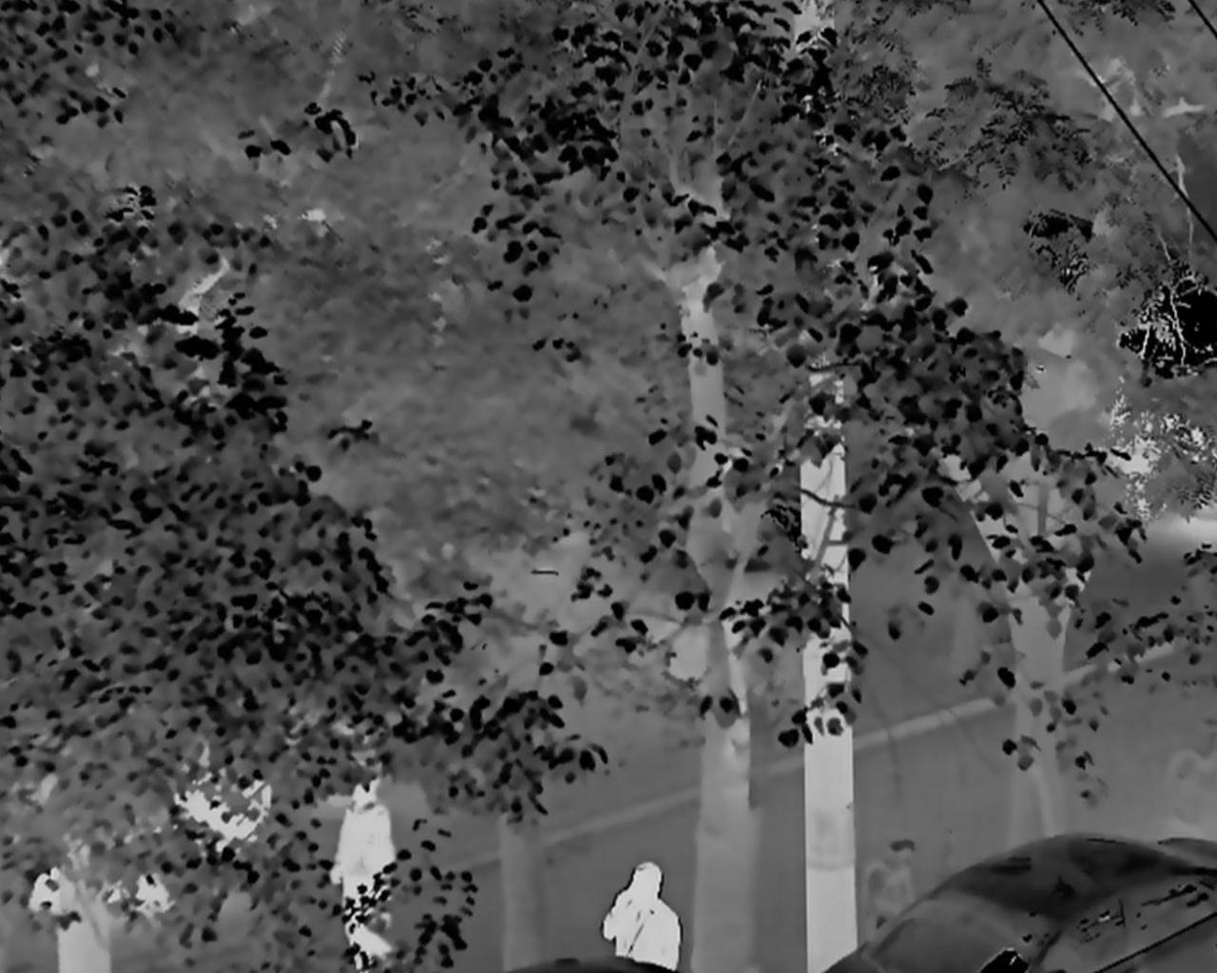person: (332, 757, 401, 973), (604, 862, 682, 973)
